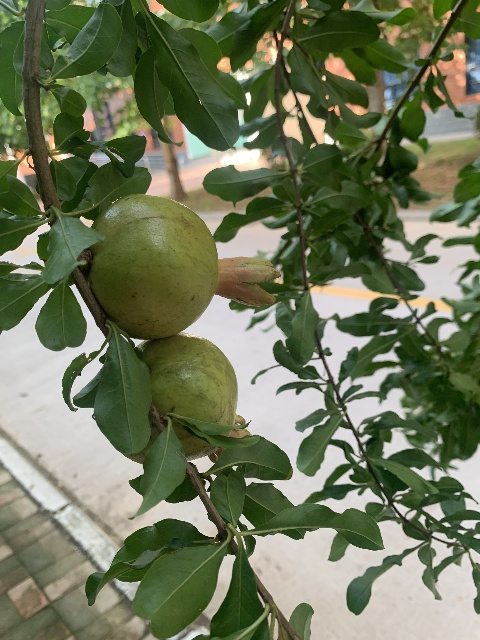mid-growth: (83, 193, 280, 338), (131, 332, 252, 463)
